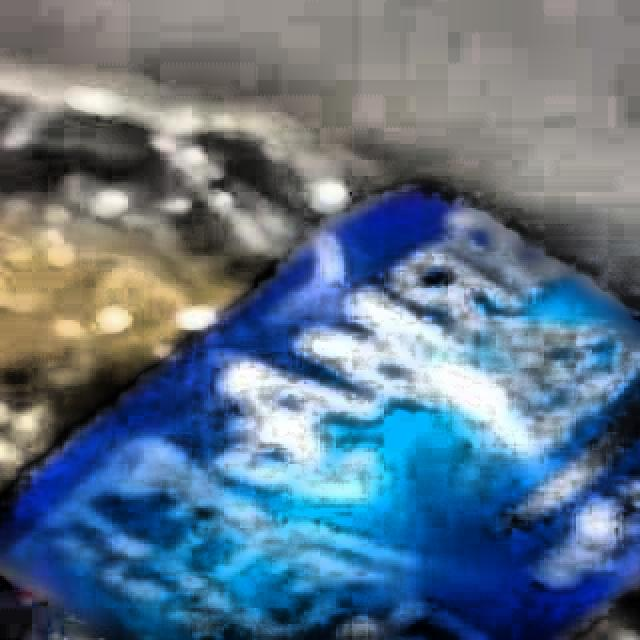plastic: (0, 74, 640, 640)
